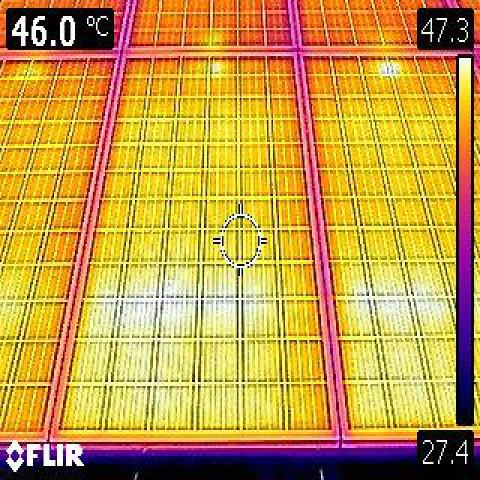fault: (110, 279, 271, 335), (348, 283, 449, 331), (204, 59, 224, 78), (380, 61, 398, 73)
